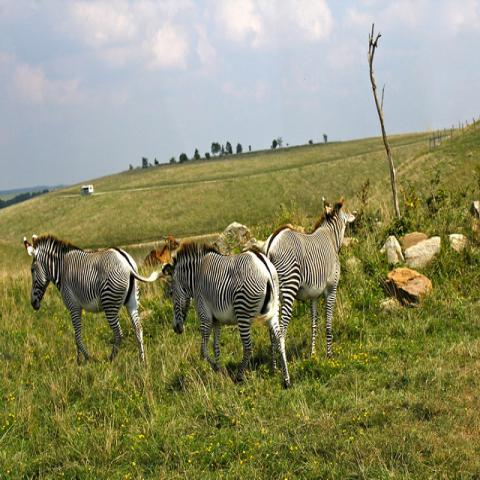truck: (81, 184, 94, 194)
